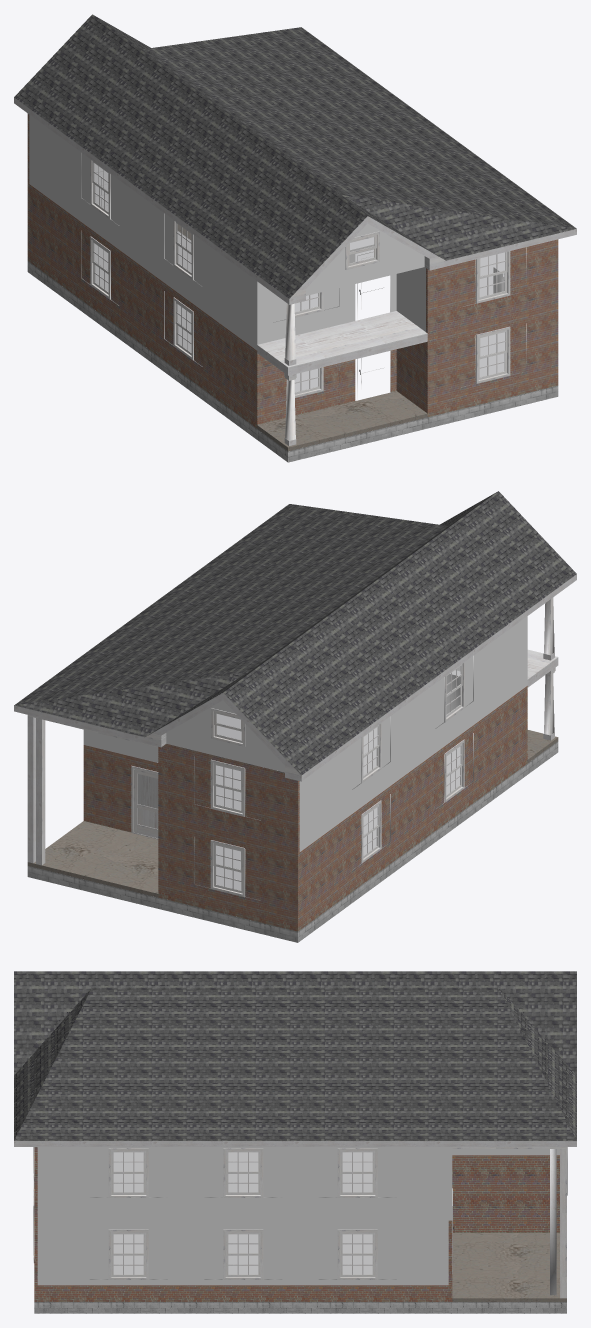
File: brick_duplex.glb
The picture shows the model from 3 angles, top to bottom: view 1: azimuth 30°, elevation 25°; view 2: azimuth 150°, elevation 25°; view 3: azimuth 270°, elevation 25°; orthographic projection. The views are drawn at different scales.
Parts seen in each view (by area): view 1: bld; view 2: bld; view 3: bld.
Part boxes in pixels (left/top/right/bottom): bld: left=14, top=14, right=576, bottom=462; bld: left=14, top=491, right=576, bottom=942; bld: left=14, top=971, right=576, bottom=1313.
Bounding box in the file's own units: 10.2 × 8.03 × 16.93.
10 materials, 6 textured.
